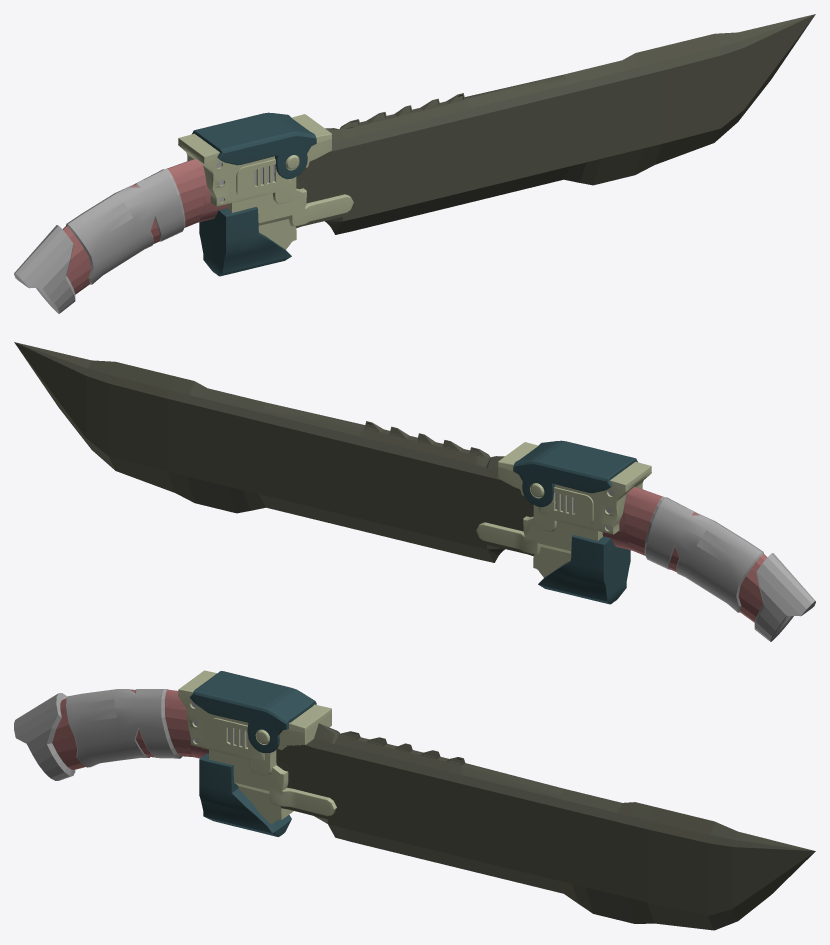
Rendered from sword_export_to_substance2.fbx.
3 views of the same model, one above another, from view 1: azimuth 30°, elevation 25°; view 2: azimuth 150°, elevation 25°; view 3: azimuth 330°, elevation 25° (orthographic).
Parts seen in each view (by area): view 1: pCylinder5; view 2: pCylinder5; view 3: pCylinder5.
Boxes of the visible parts, x1=… form: pCylinder5: x1=14, y1=14, x2=815, y2=313; pCylinder5: x1=14, y1=342, x2=815, y2=641; pCylinder5: x1=14, y1=670, x2=815, y2=930.
Size of the model in its own units: 9.77 by 1.63 by 0.6802.
